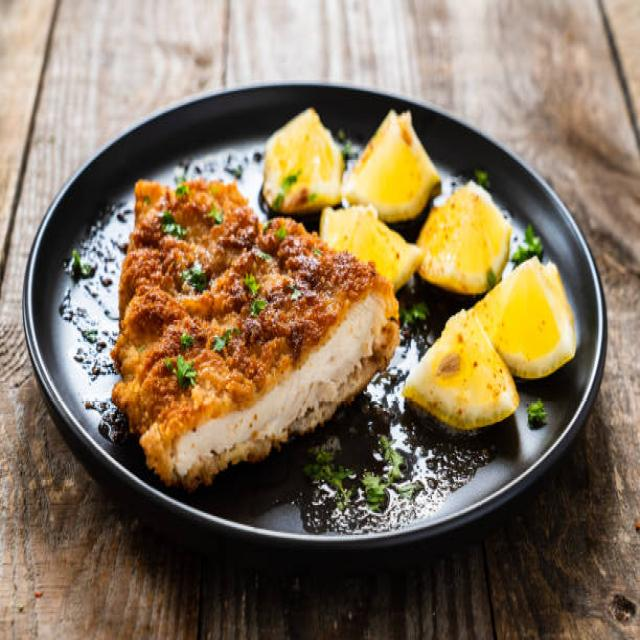Frango: (111, 166, 404, 502)
